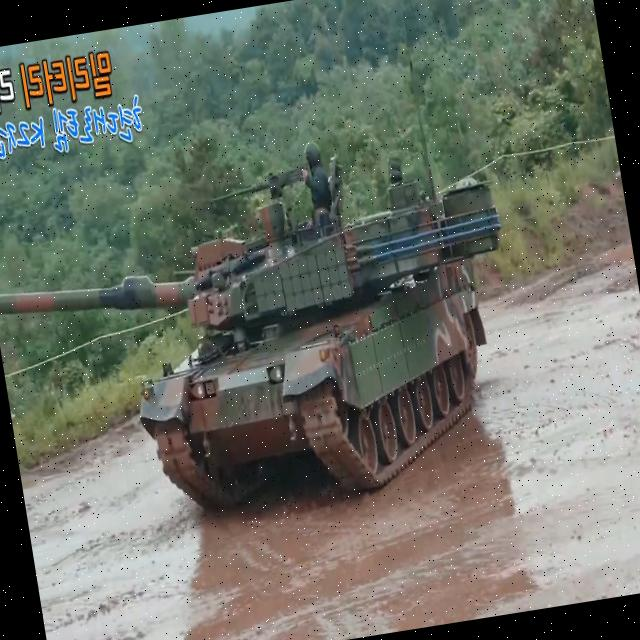korea tank: (0, 115, 542, 547)
